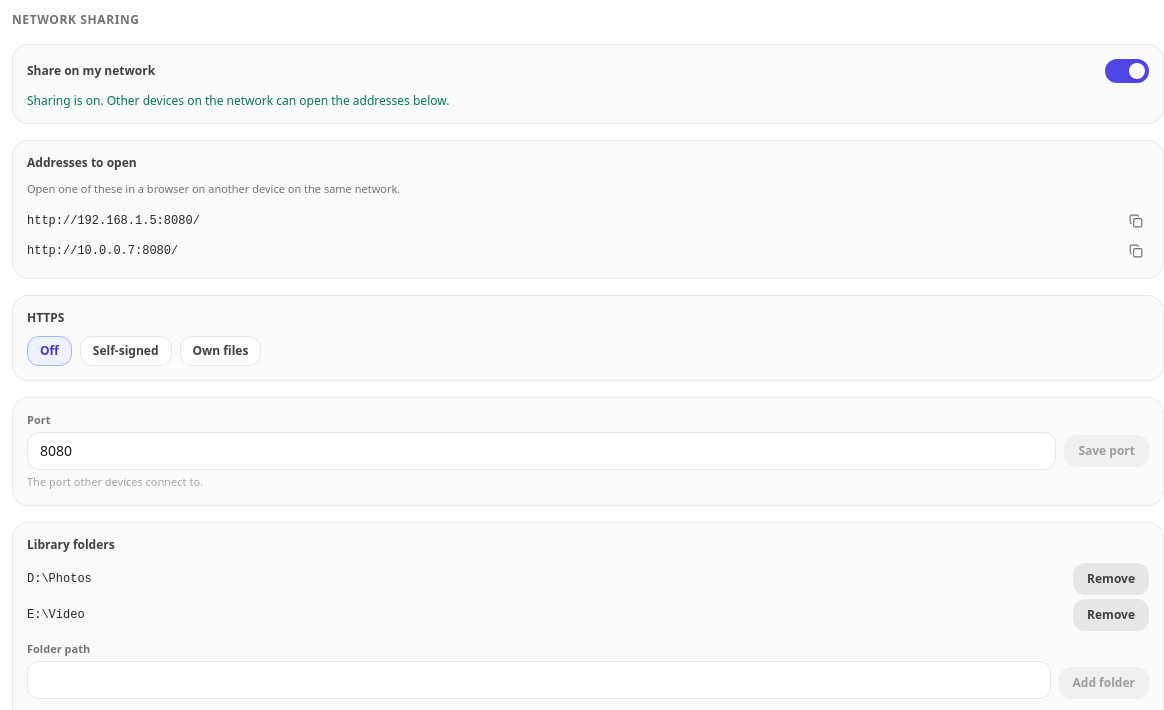
Test: SharingSection › the switch › warns when sharing stopped but the setting was not saved
Click the switch named "Share on my network": [1127, 71] box [1105, 59, 1149, 83]
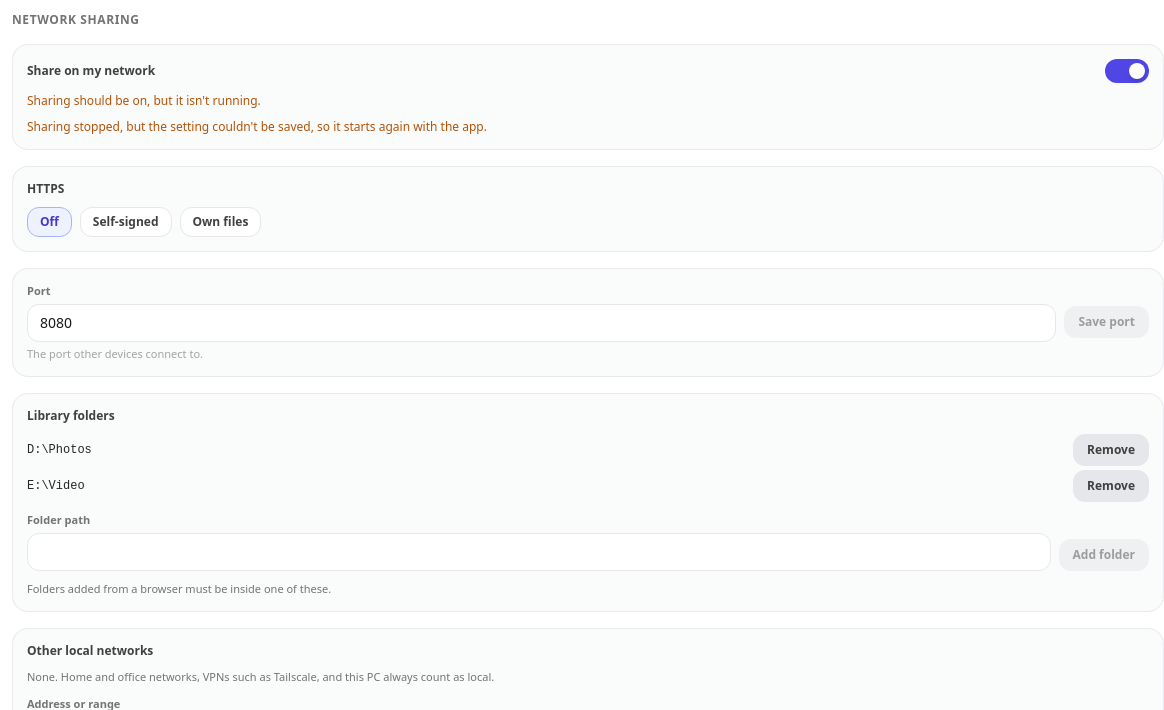
Check: the 2nd message shows "Sharing stopped, but the setting couldn't be saved, so it starts again with the app.", box [27, 118, 487, 135]
Check: the text "Sharing should be on, but it isn't running." is shown, box [27, 92, 261, 109]
